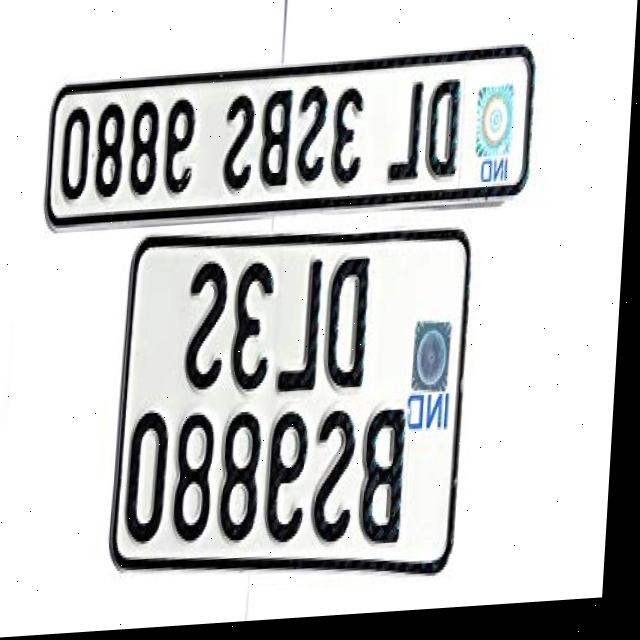plate: (110, 224, 478, 601), (44, 53, 538, 237)
